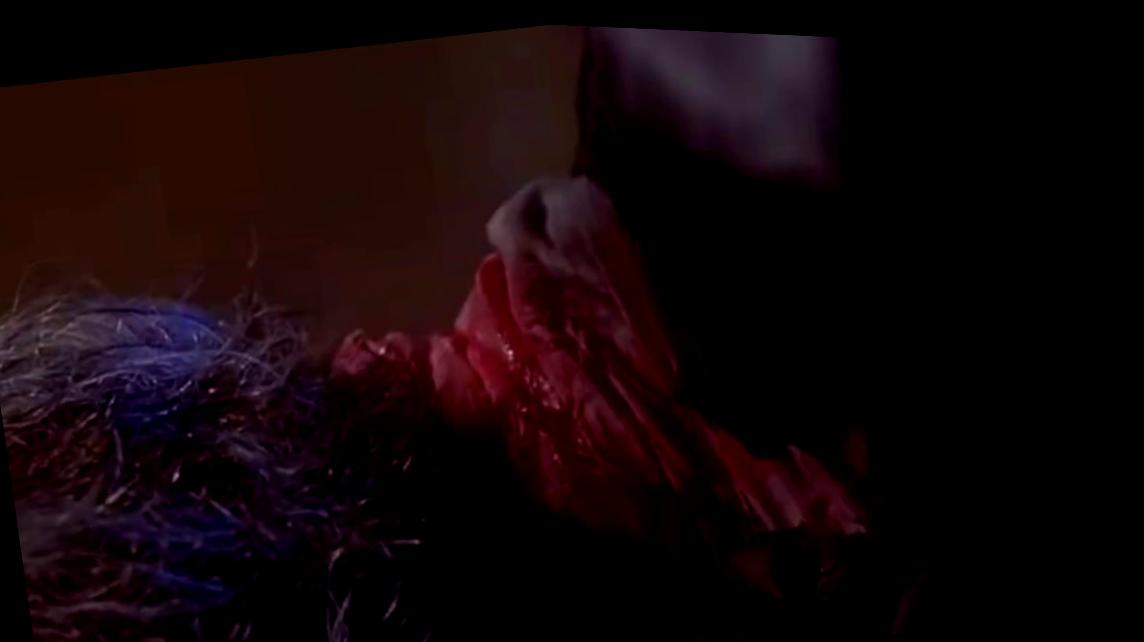Fire: (333, 168, 891, 642)
